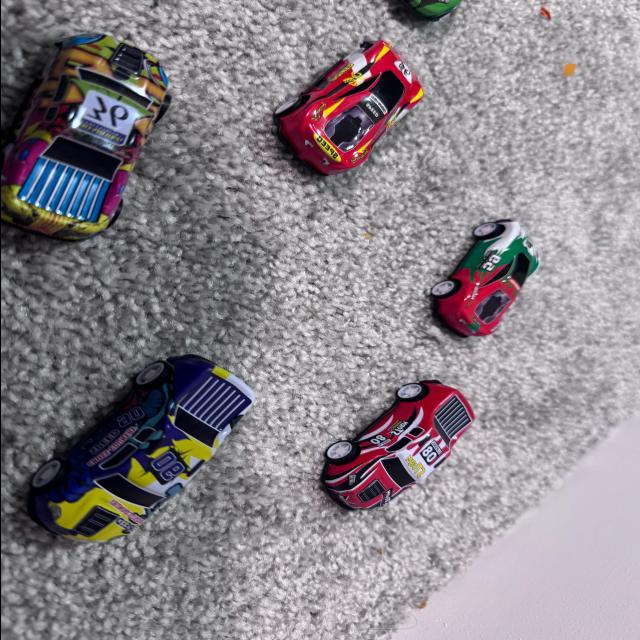car: (21, 352, 241, 552), (0, 34, 166, 260), (262, 30, 424, 176), (336, 374, 482, 533), (411, 202, 533, 348)
